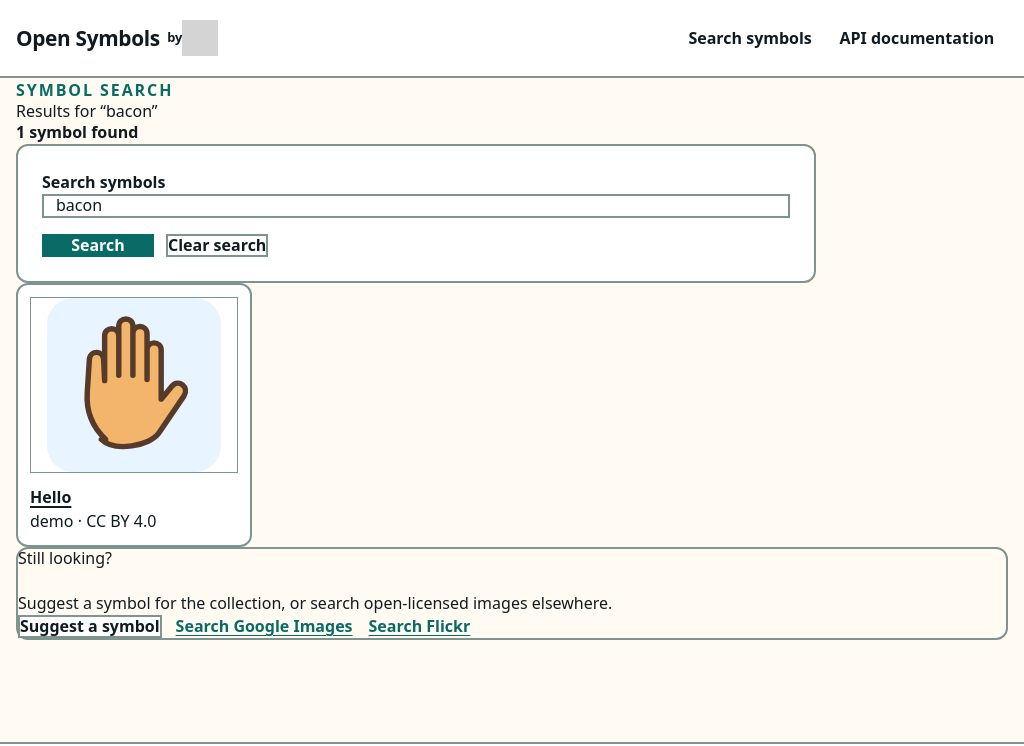
Test: public discovery › announces symbol-request progress, closes on success, and restores focus
Click the button "Suggest a symbol".
click(90, 627)  # box [18,615,162,638]
(page scrolled)
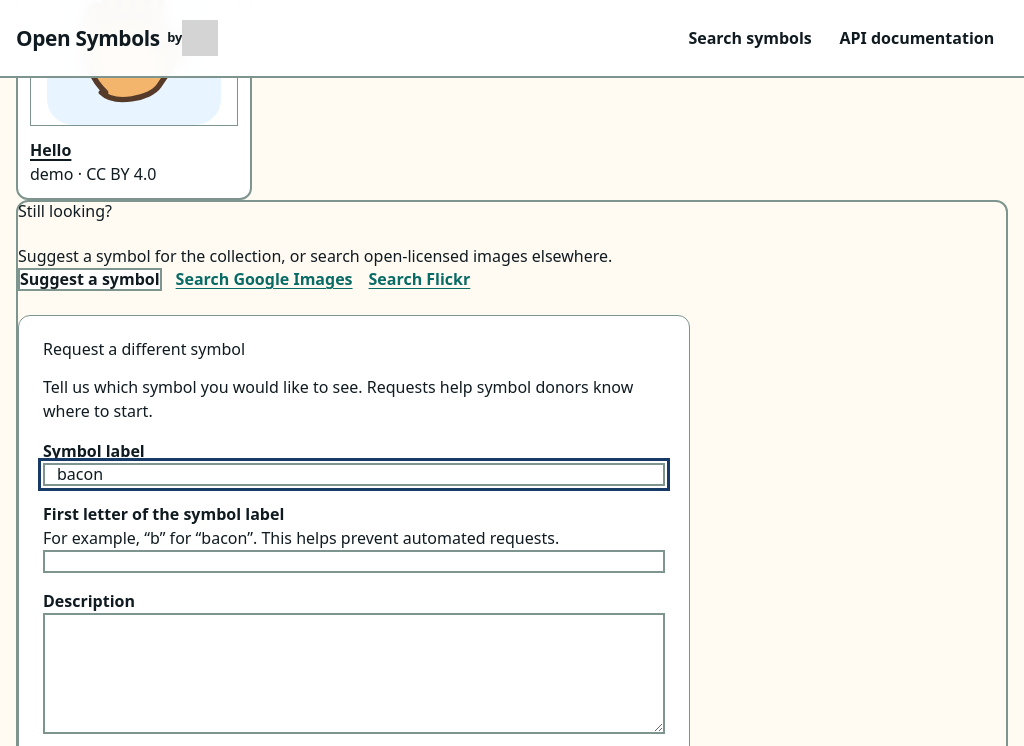
Type "b" into the field labelled "First letter of the symbol label".
click(354, 562); type("b")  # box [43,550,665,573]
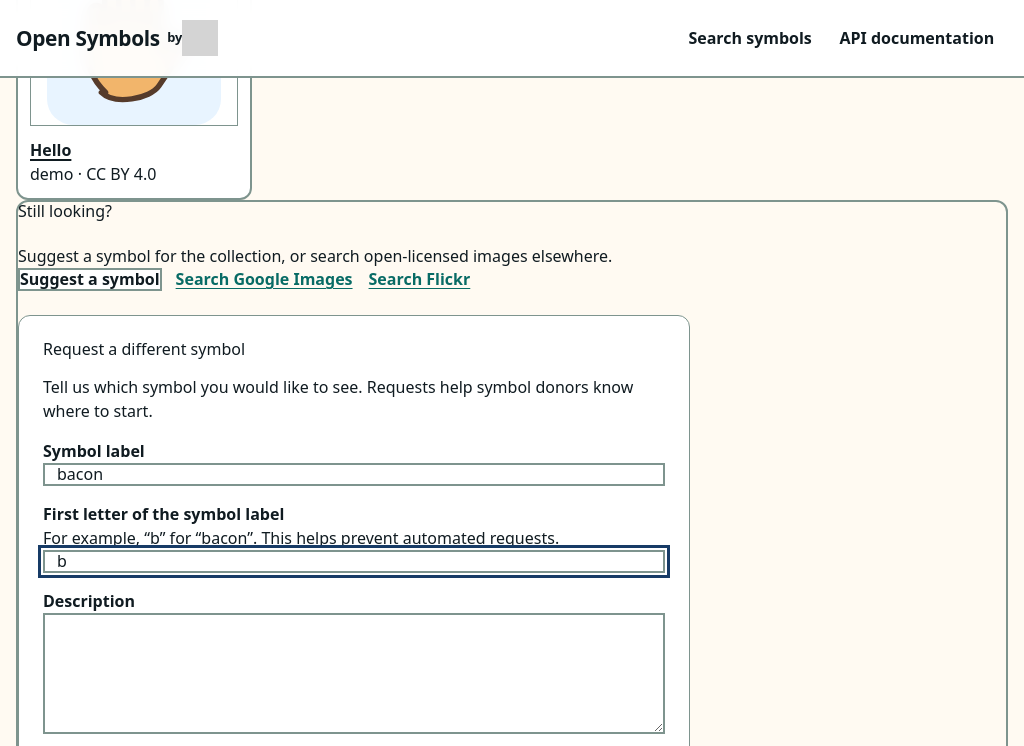
Type "A clear picture of bacon" into the text box labelled "Description".
click(354, 674); type("A clear picture of bacon")  # box [43,613,665,734]
(page scrolled)
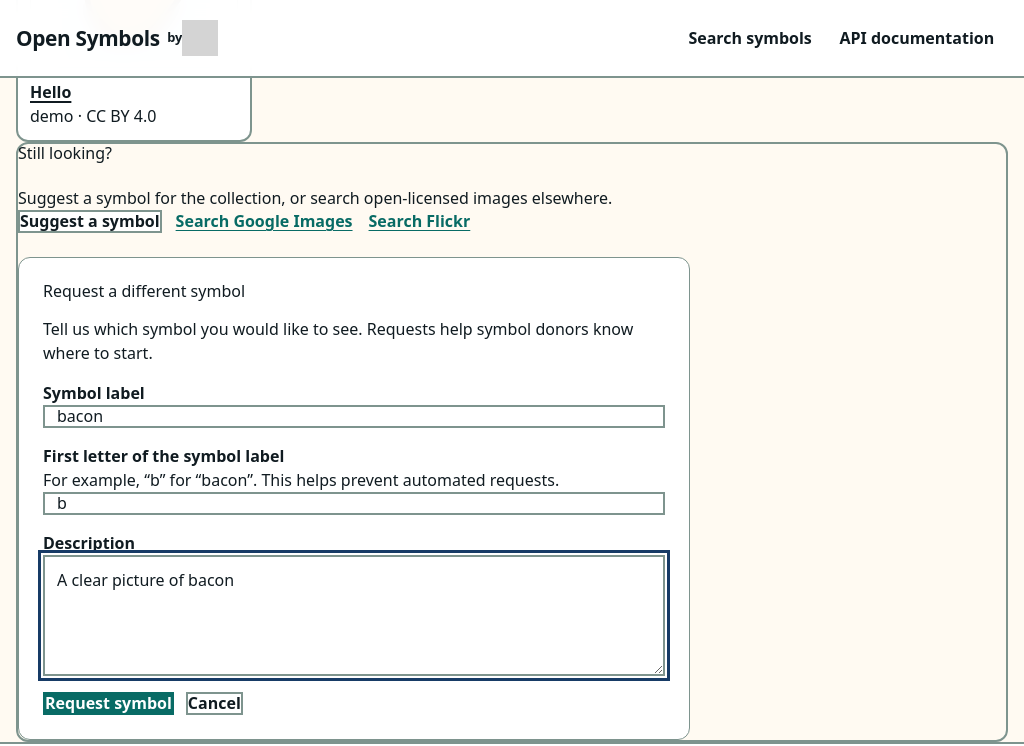
Click the button "Request symbol".
click(108, 704)  # box [43,692,174,715]
(page scrolled)
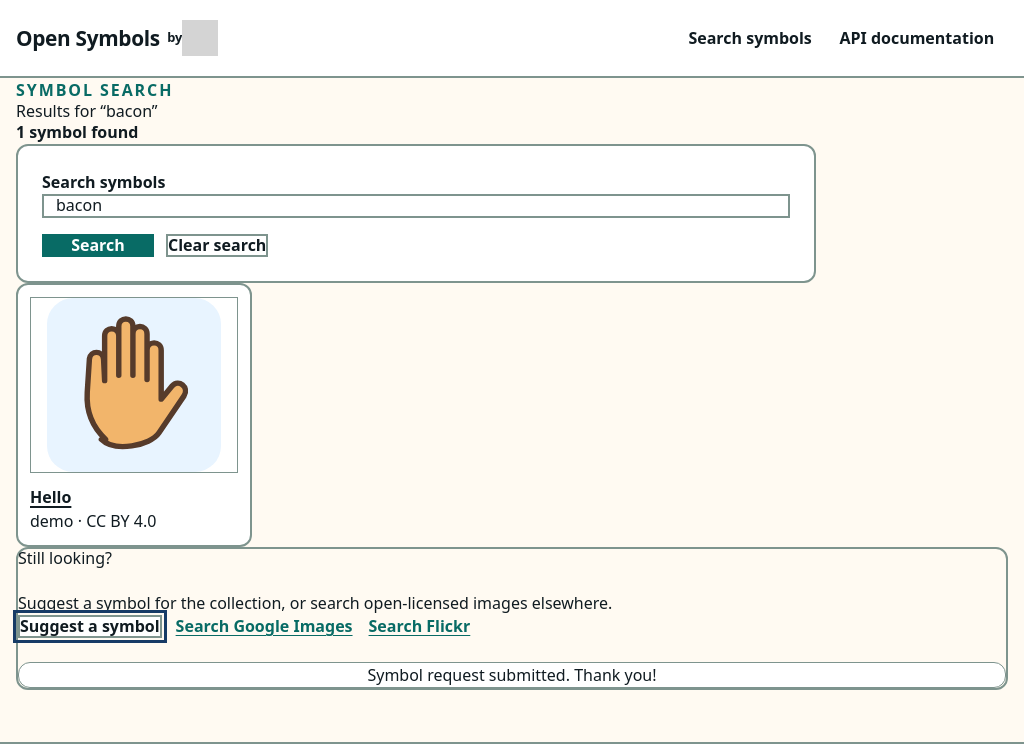
Expected: the text "Symbol request submitted. Thank you!" is shown, [18,662,1006,688]
Expected: the heading "Request a different symbol" is gone
Expected: the button "Suggest a symbol" is collapsed, [18,615,162,638]
